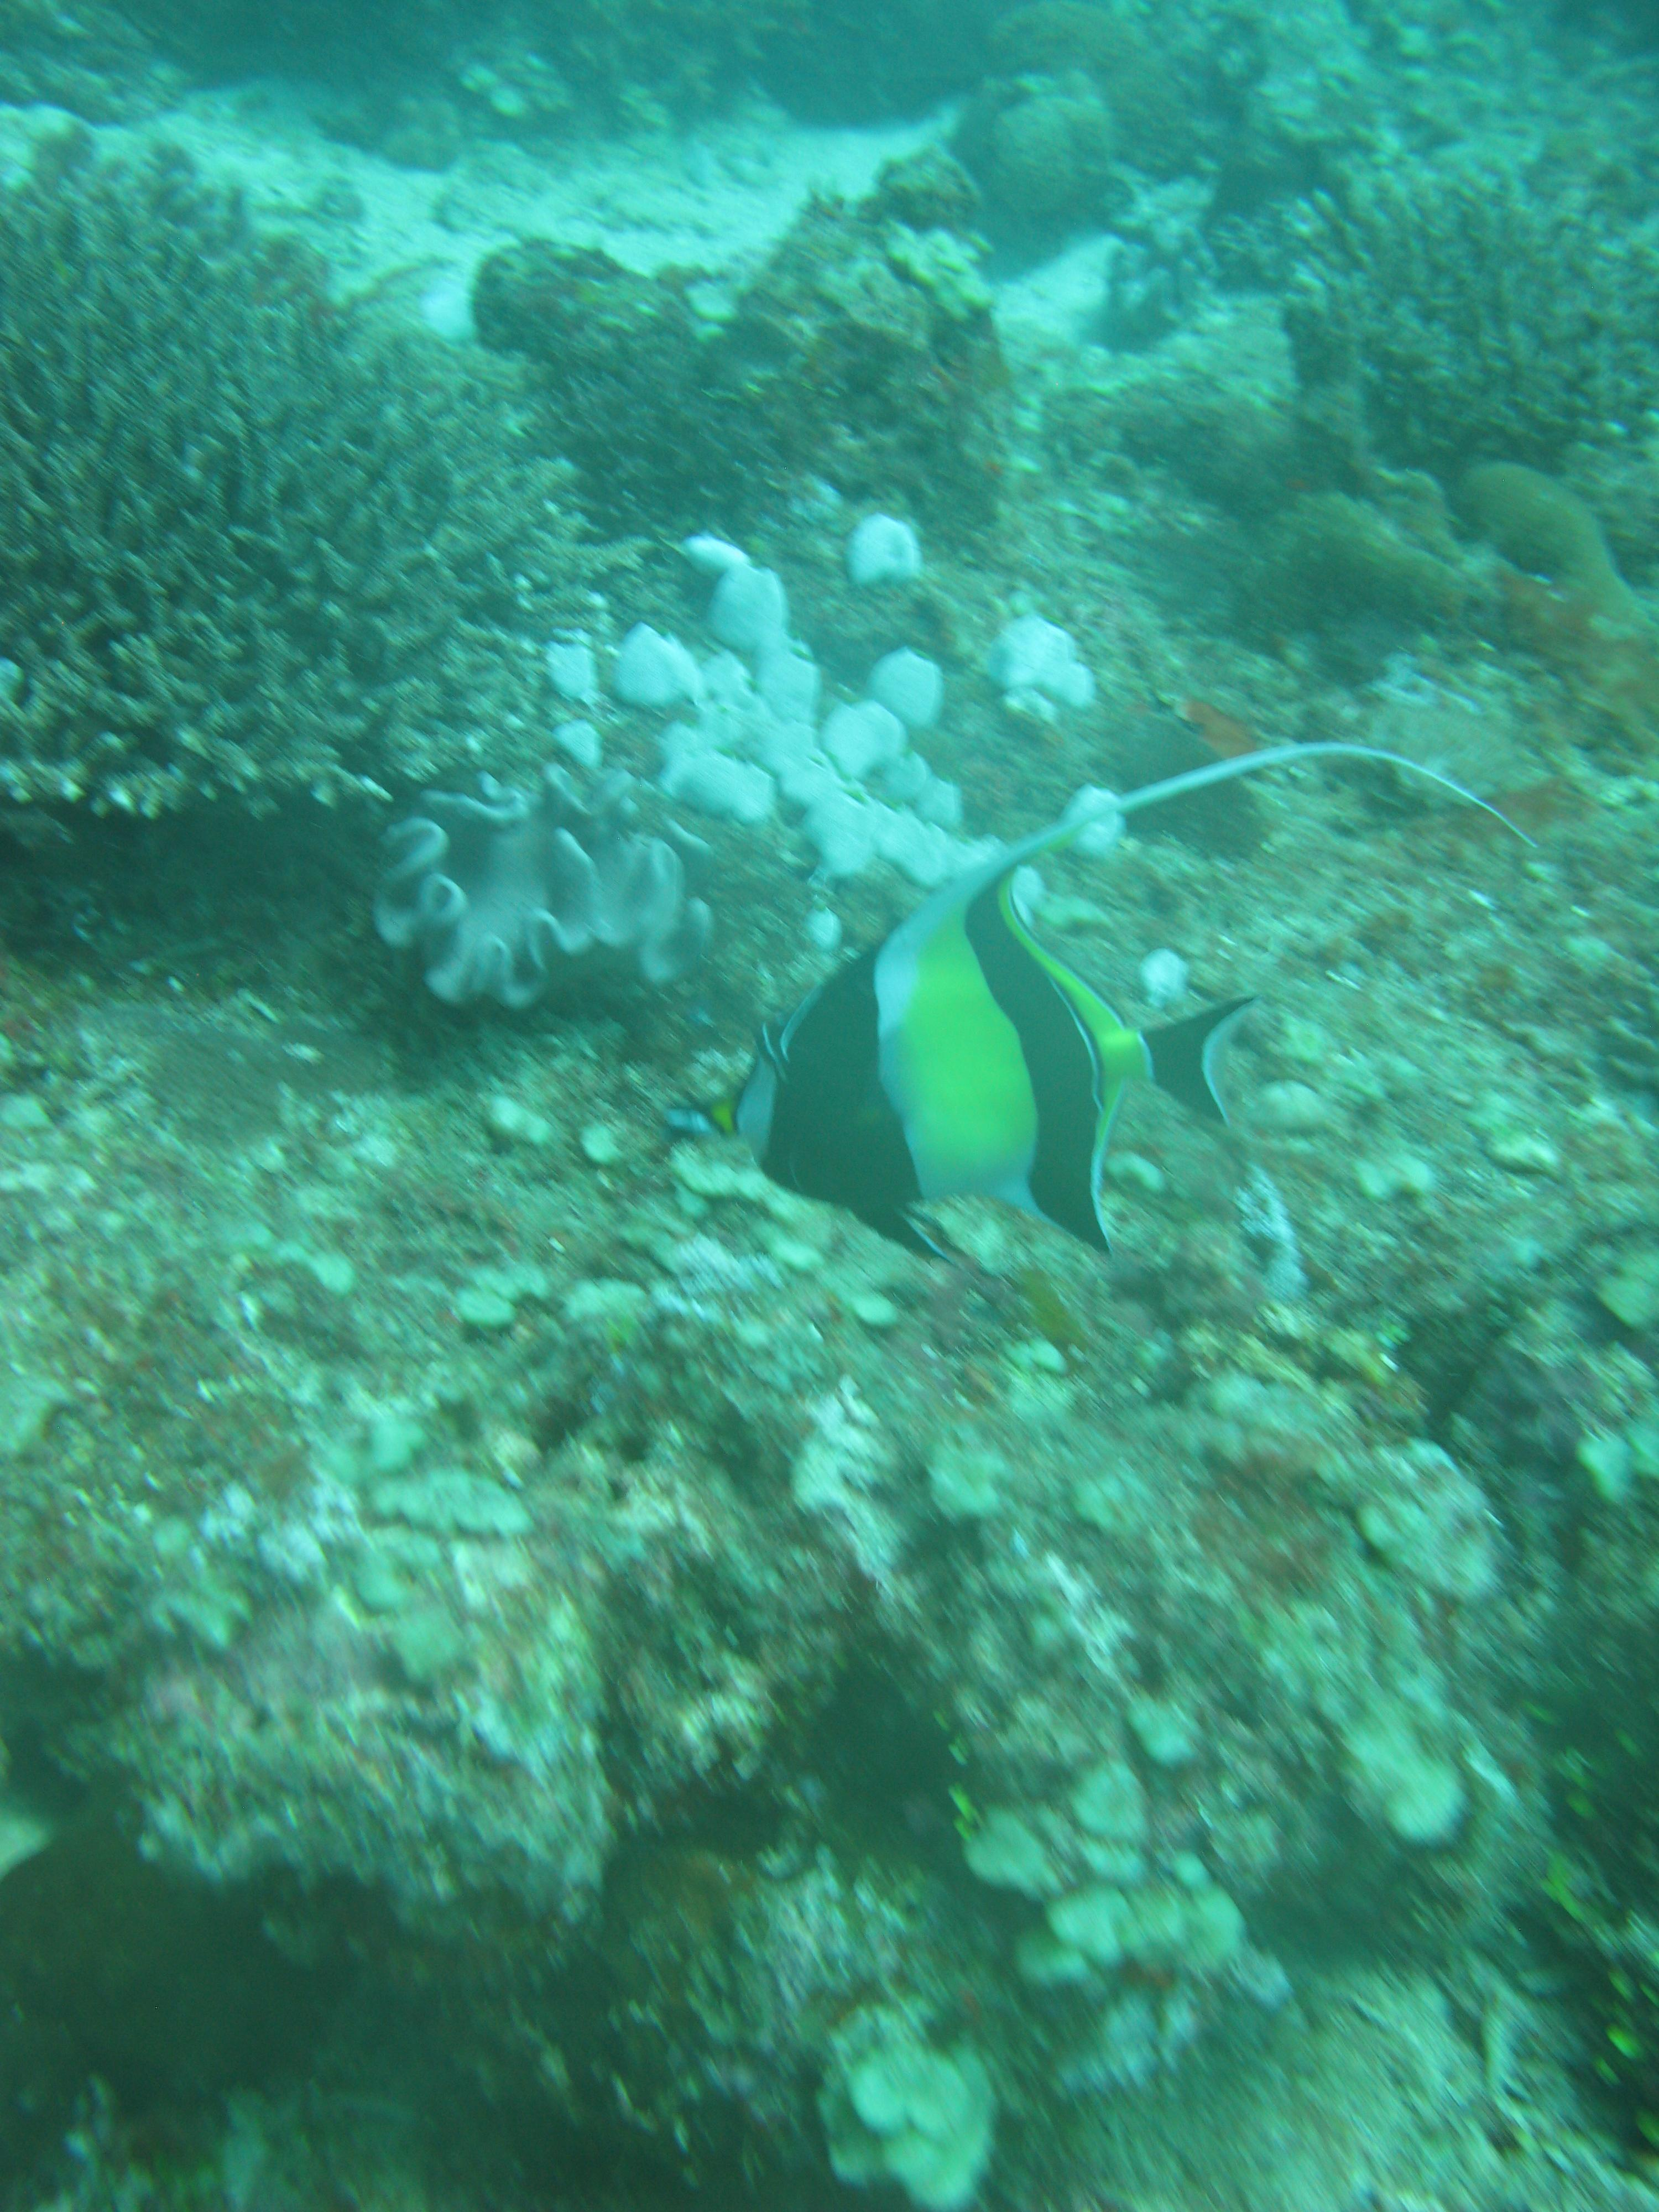Fish: (687, 676, 1553, 1280)
